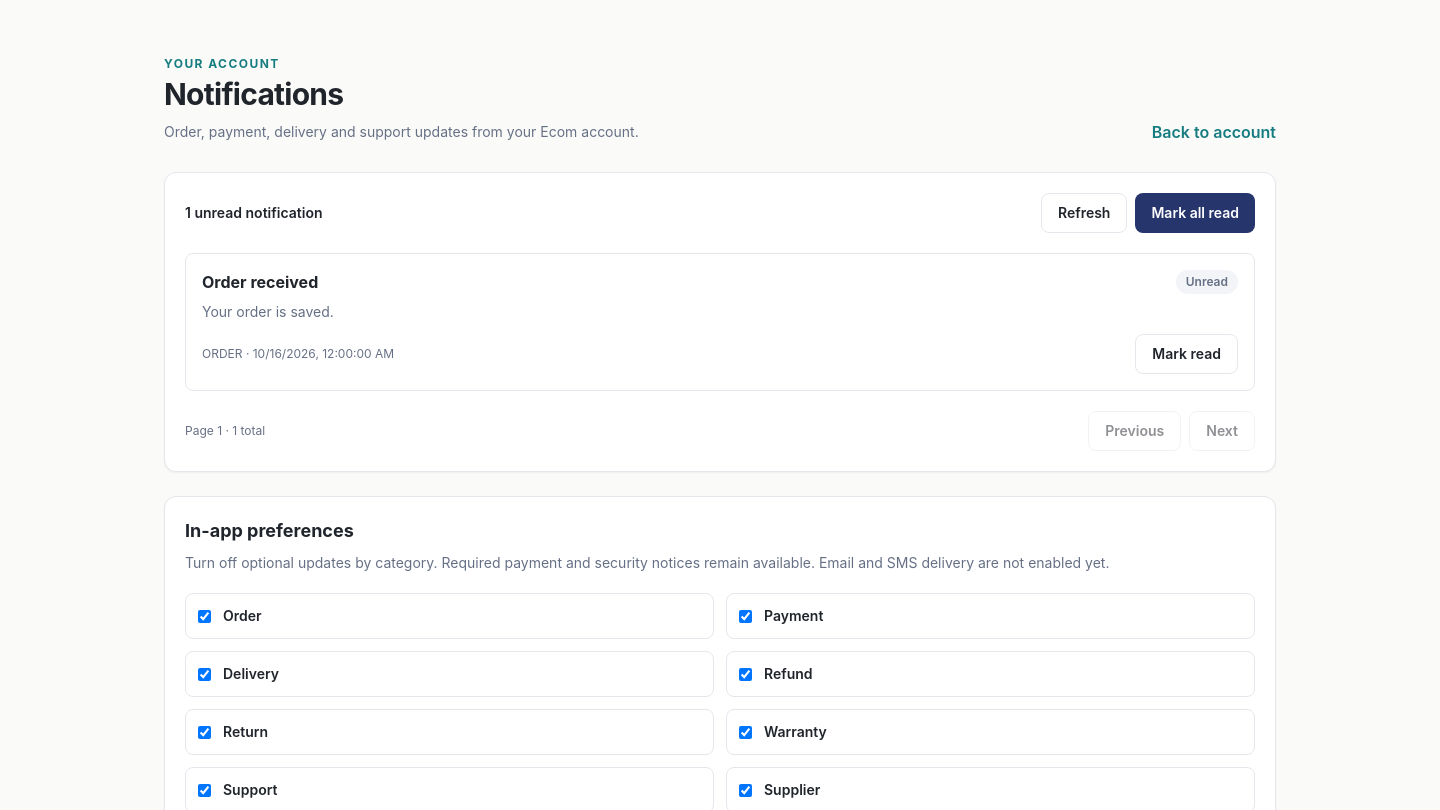
Test case: customer notifications workspace › shows failed mutations without announcing success
This screenshot has width=1440, height=810.
Expected: the text "Order received" is shown, 202,270 -> 318,294
Step 1. Click the button "Mark all read" → x=1195, y=213, box 1135,193 -> 1255,233
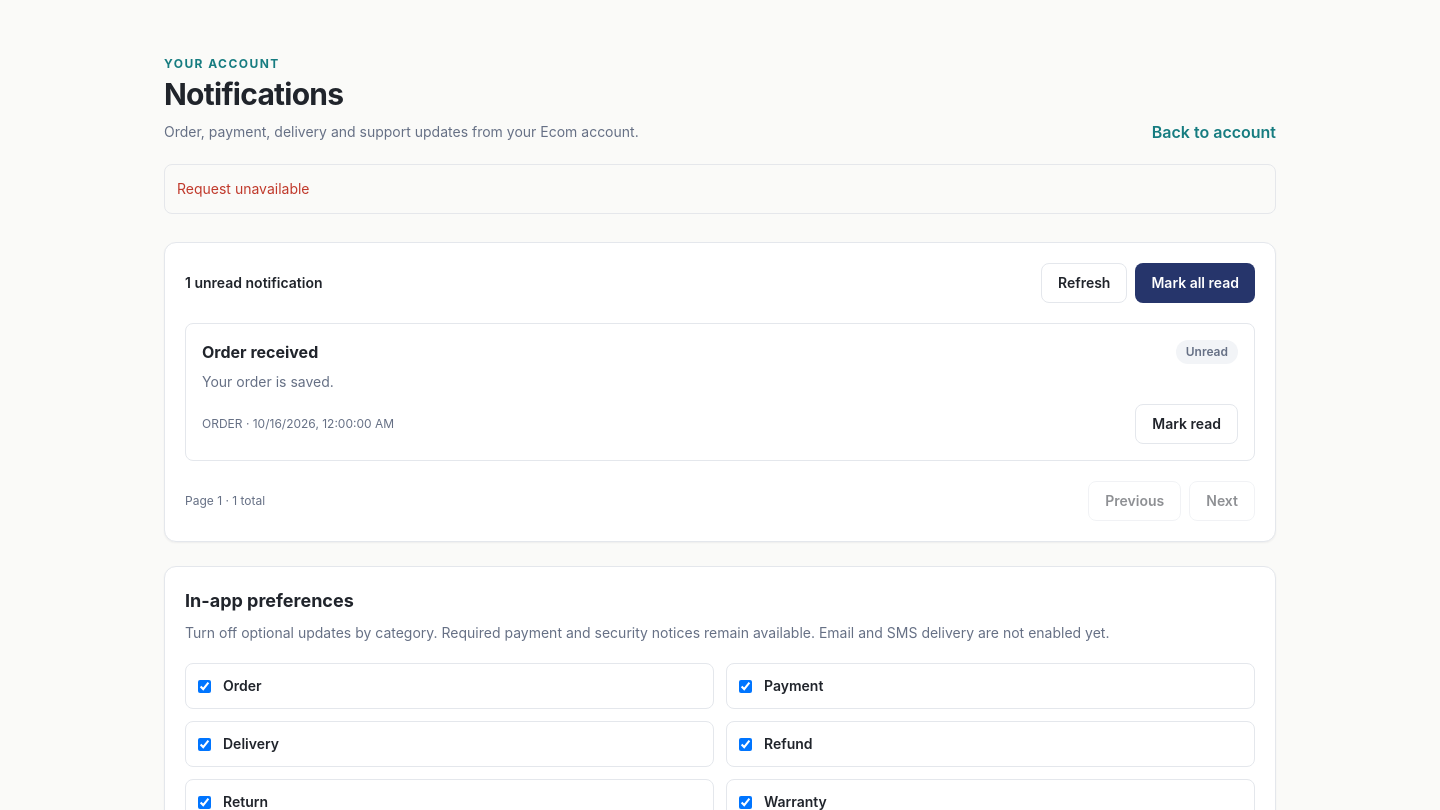
Expected: the text "Request unavailable" is shown, 164,164 -> 1276,214
